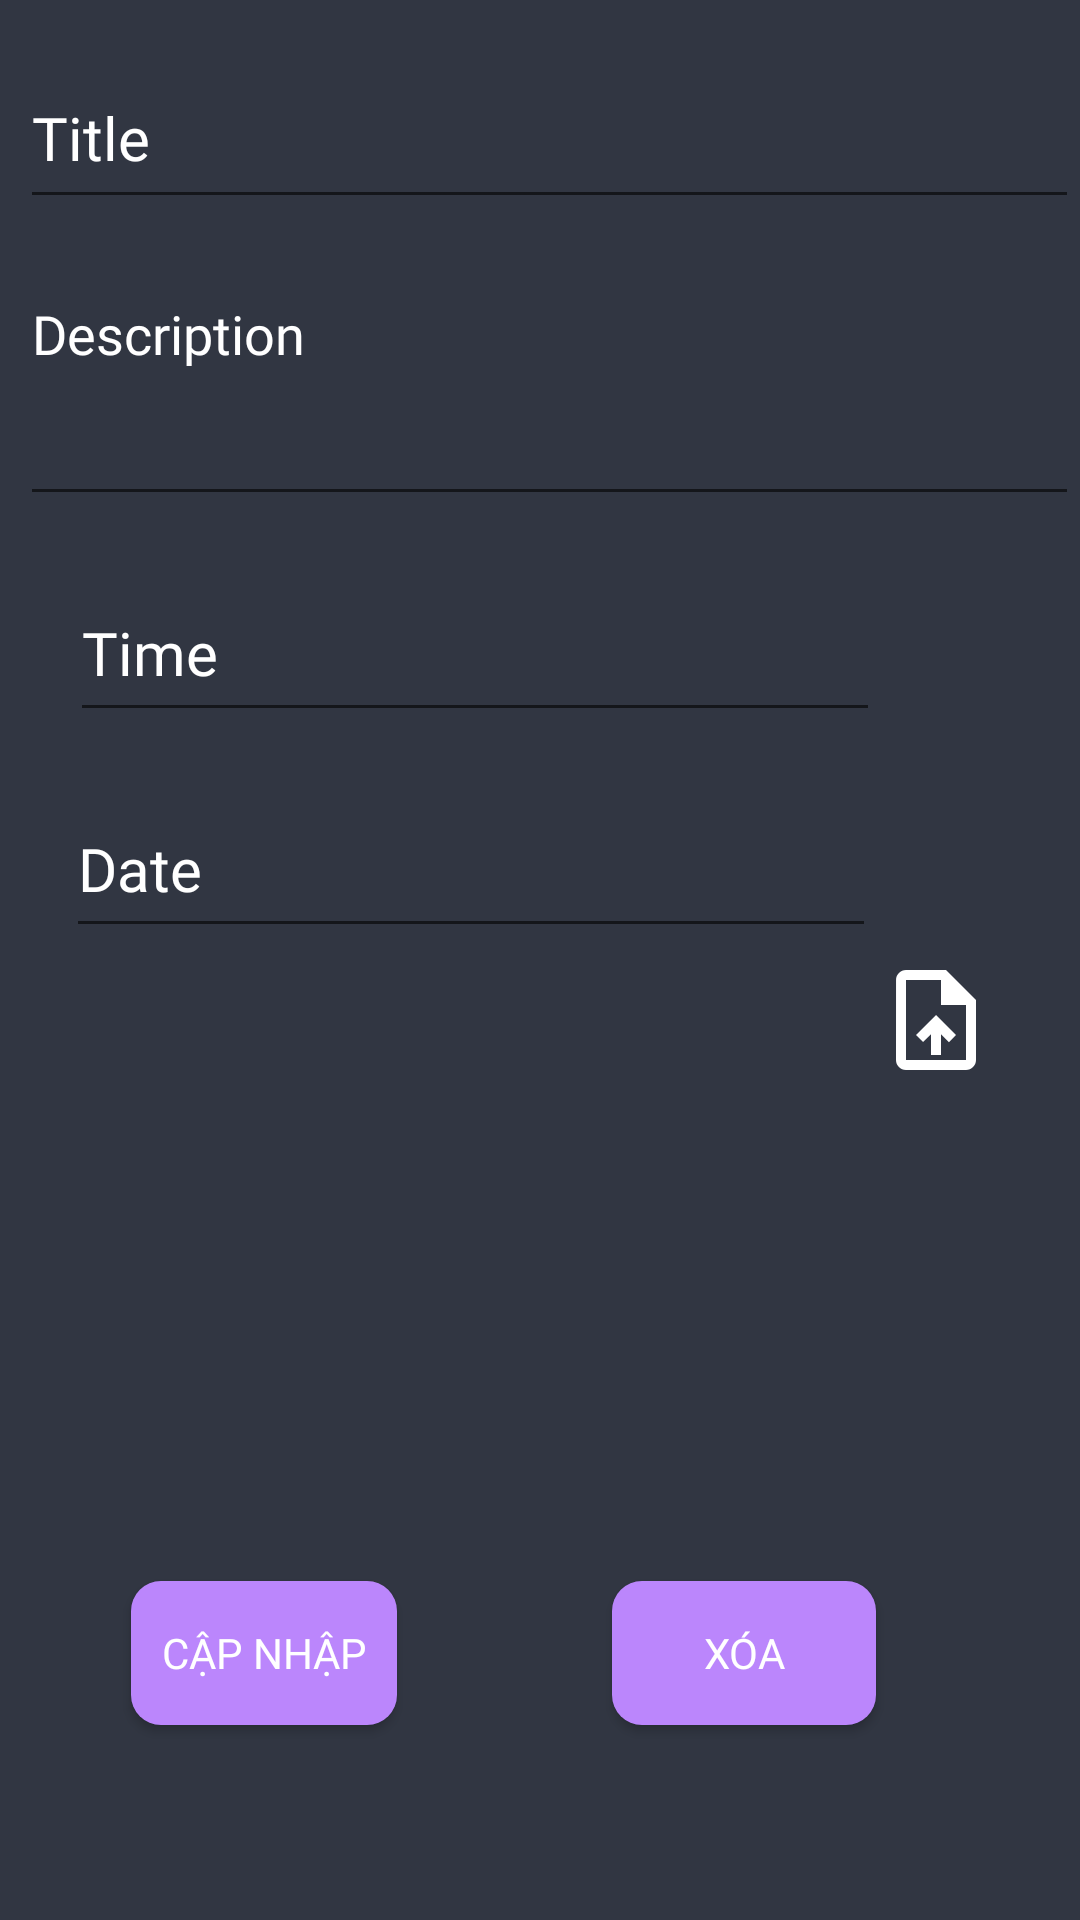

Locate icon controls on the screen. Image size 1080×1920, boxes as box(x1, y1, x2, y2).
upload file: box(896, 970, 976, 1070)
